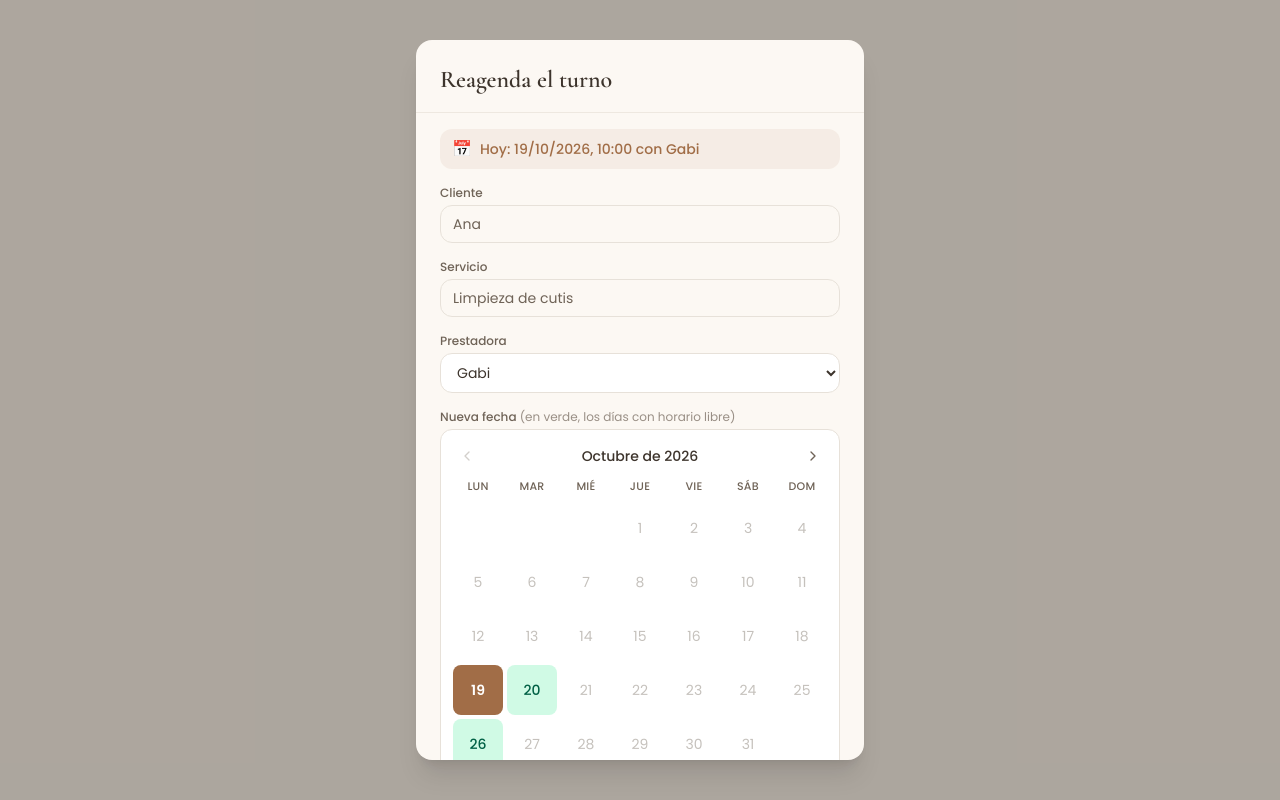
Scenario: ReagendarTurnoModal › cambiar la prestadora limpia el día y la hora, y vuelve a pedir el calendario para la nueva
Select "Lu" in the dropdown labelled "Prestadora": (640, 373) [440,353,840,393]
(page scrolled)
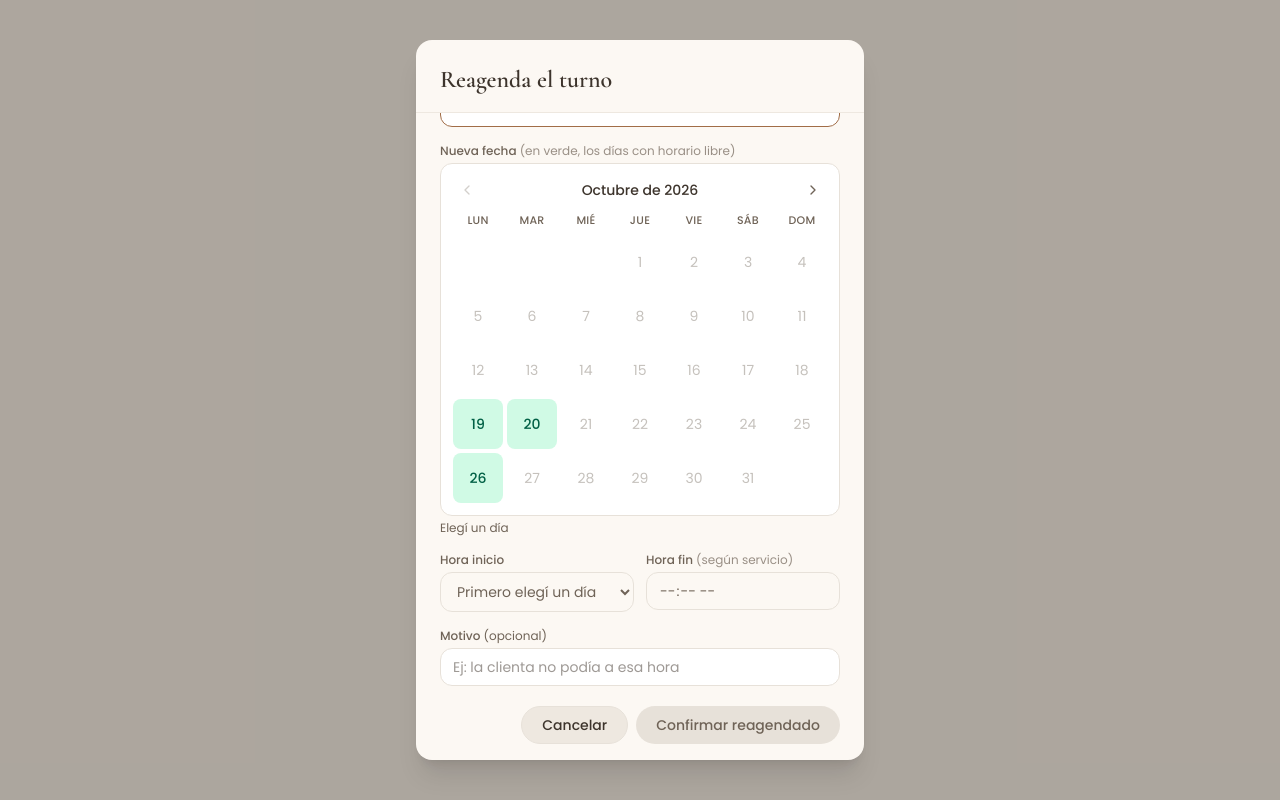
Result: the button "Confirmar reagendado" is disabled at [636,706,840,744]
